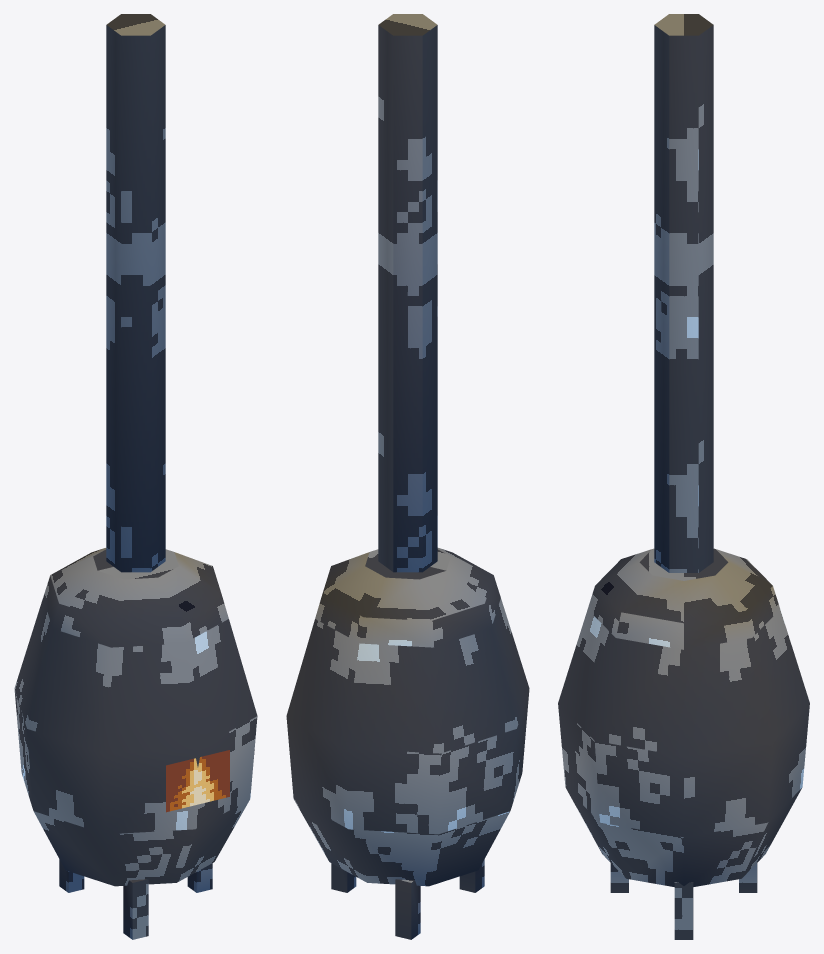
The model's file is wprop.stove.glb.
3 renders of one model, left to right at view 1: azimuth 30°, elevation 25°; view 2: azimuth 150°, elevation 25°; view 3: azimuth 270°, elevation 25°, orthographic.
Visible parts, largest first — view 1: kit_body, kit_pipe, kit_card_grate, kit_legs; view 2: kit_body, kit_pipe, kit_legs; view 3: kit_body, kit_pipe, kit_legs.
Boxes of the visible parts, bbox=[...] form: kit_body: bbox=[14, 548, 257, 886]; kit_pipe: bbox=[106, 14, 165, 572]; kit_card_grate: bbox=[166, 750, 229, 812]; kit_legs: bbox=[59, 859, 212, 939]; kit_body: bbox=[286, 548, 529, 886]; kit_pipe: bbox=[378, 14, 437, 572]; kit_legs: bbox=[331, 859, 484, 939]; kit_body: bbox=[558, 548, 809, 886]; kit_pipe: bbox=[654, 14, 713, 572]; kit_legs: bbox=[610, 863, 757, 939].
Size of the model in its own units: 0.68 by 2.62 by 0.68.
2 materials, 2 textured.
